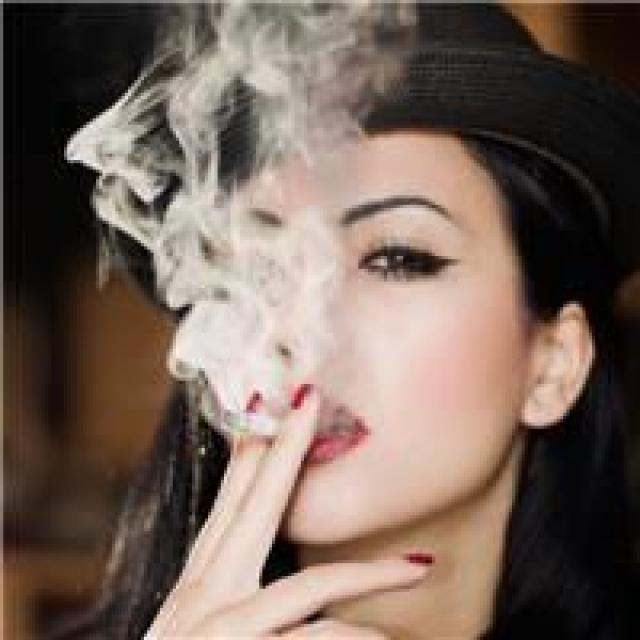smoke: (204, 390, 314, 448)
